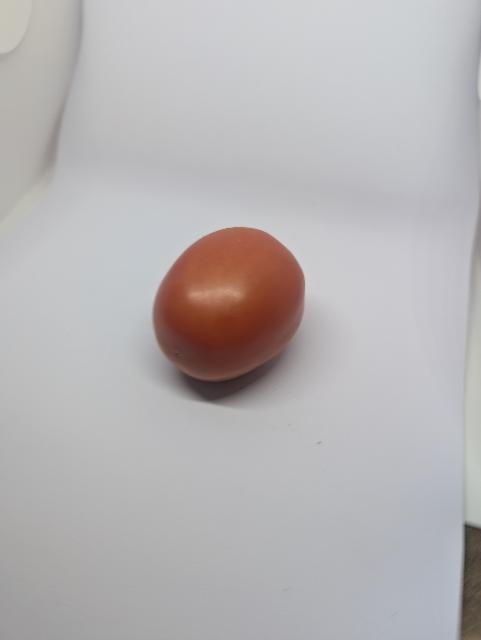red: (128, 215, 340, 405)
